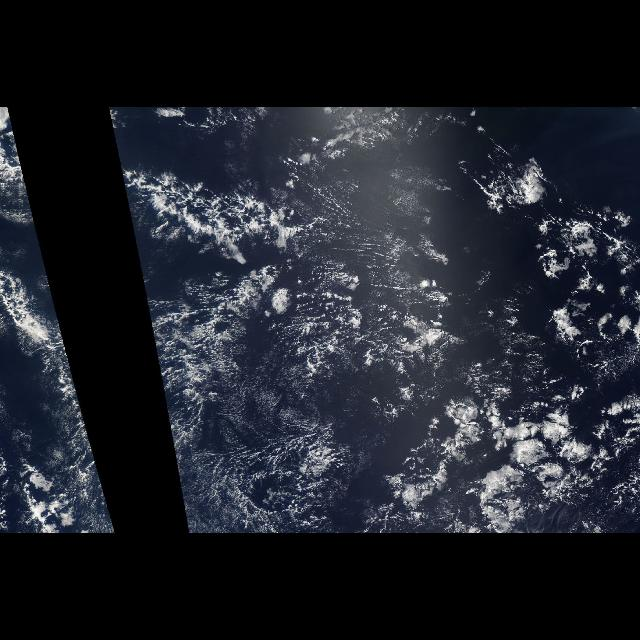Fish: (120, 162, 318, 262)
Flower: (378, 140, 640, 530)
Gravel: (490, 211, 636, 527), (141, 168, 313, 266)
Sugar: (176, 391, 352, 529)
